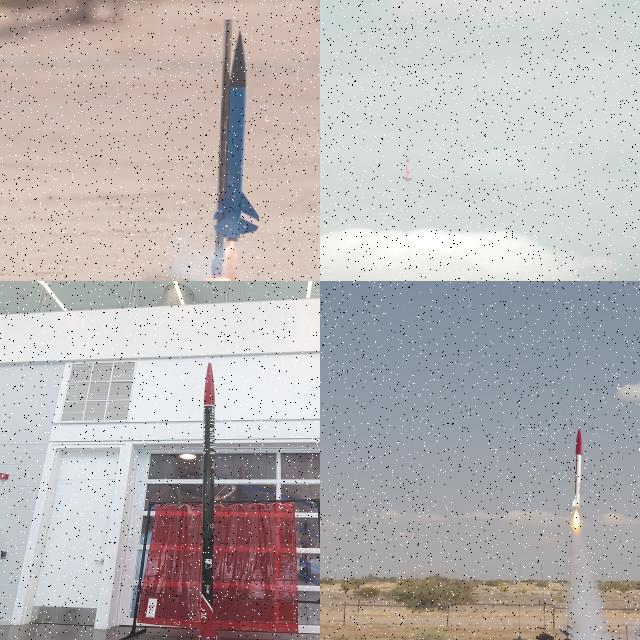Rocket: (211, 30, 261, 244), (196, 357, 221, 640), (570, 427, 585, 508), (404, 158, 412, 182)
